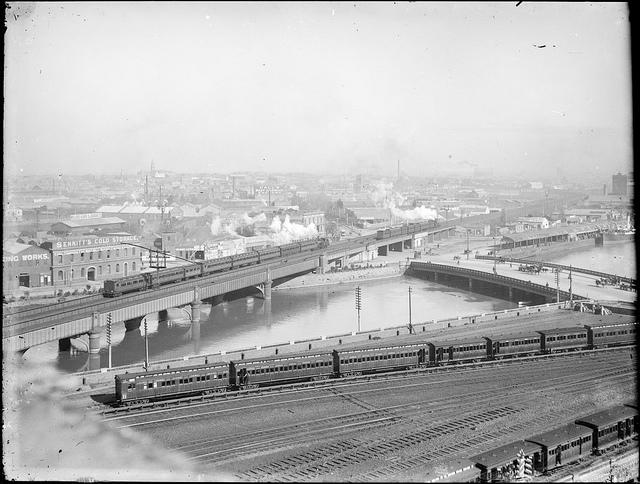Train: (116, 320, 640, 405), (470, 399, 639, 484), (104, 240, 330, 299), (376, 219, 442, 241)
